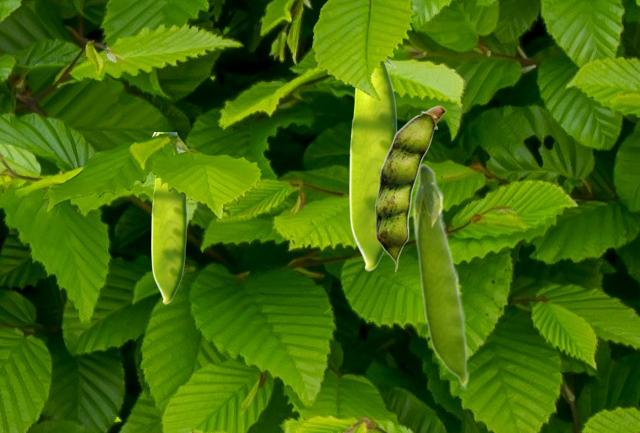pea: (412, 162, 469, 389), (375, 105, 445, 271), (349, 57, 397, 270), (151, 132, 186, 303)
